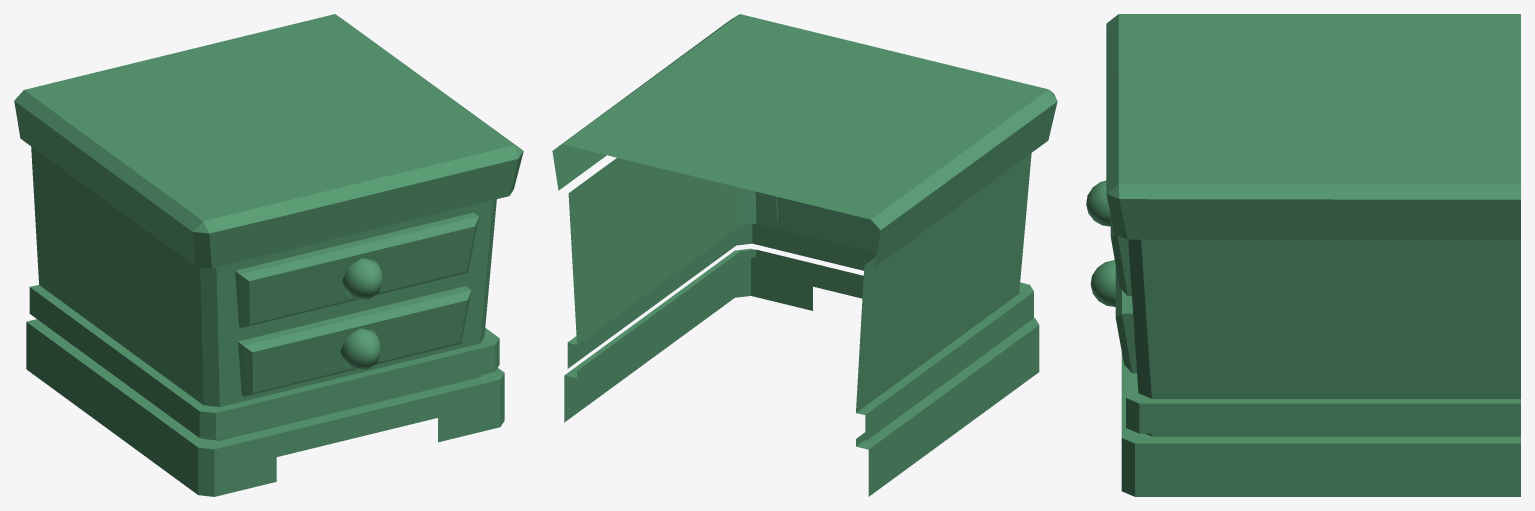
The model's file is Bedside_Table_V4.fbx.
3 views of the same model, side by side, from view 1: azimuth 30°, elevation 25°; view 2: azimuth 150°, elevation 25°; view 3: azimuth 270°, elevation 25° (orthographic). The views are drawn at different scales.
Visible parts, largest first — view 1: Bedside_Table; view 2: Bedside_Table; view 3: Bedside_Table.
Part boxes in pixels (x1=…): Bedside_Table: x1=14, y1=14, x2=523, y2=496; Bedside_Table: x1=552, y1=14, x2=1057, y2=496; Bedside_Table: x1=1086, y1=14, x2=1520, y2=496.
Size of the model in its own units: 149 by 120 by 151.
